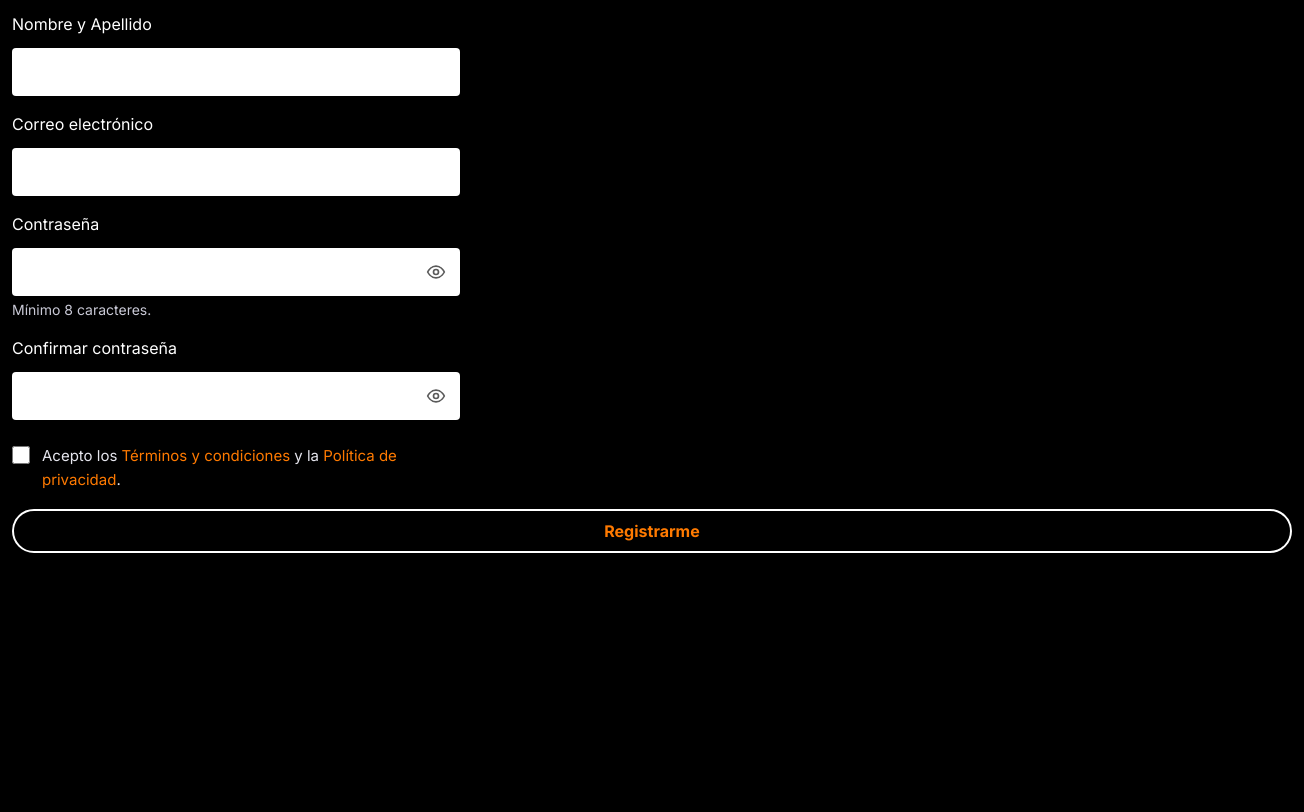
Test: RegisterForm › clears the EMAIL_TAKEN error once the email is edited
The image size is (1304, 812).
Type "Ana Pérez" into the field labelled "Nombre y Apellido" at (236, 72), box x1=12 y1=48 x2=460 y2=96
Type "ana@example.com" into the field labelled "Correo electrónico" at (236, 172), box x1=12 y1=148 x2=460 y2=196
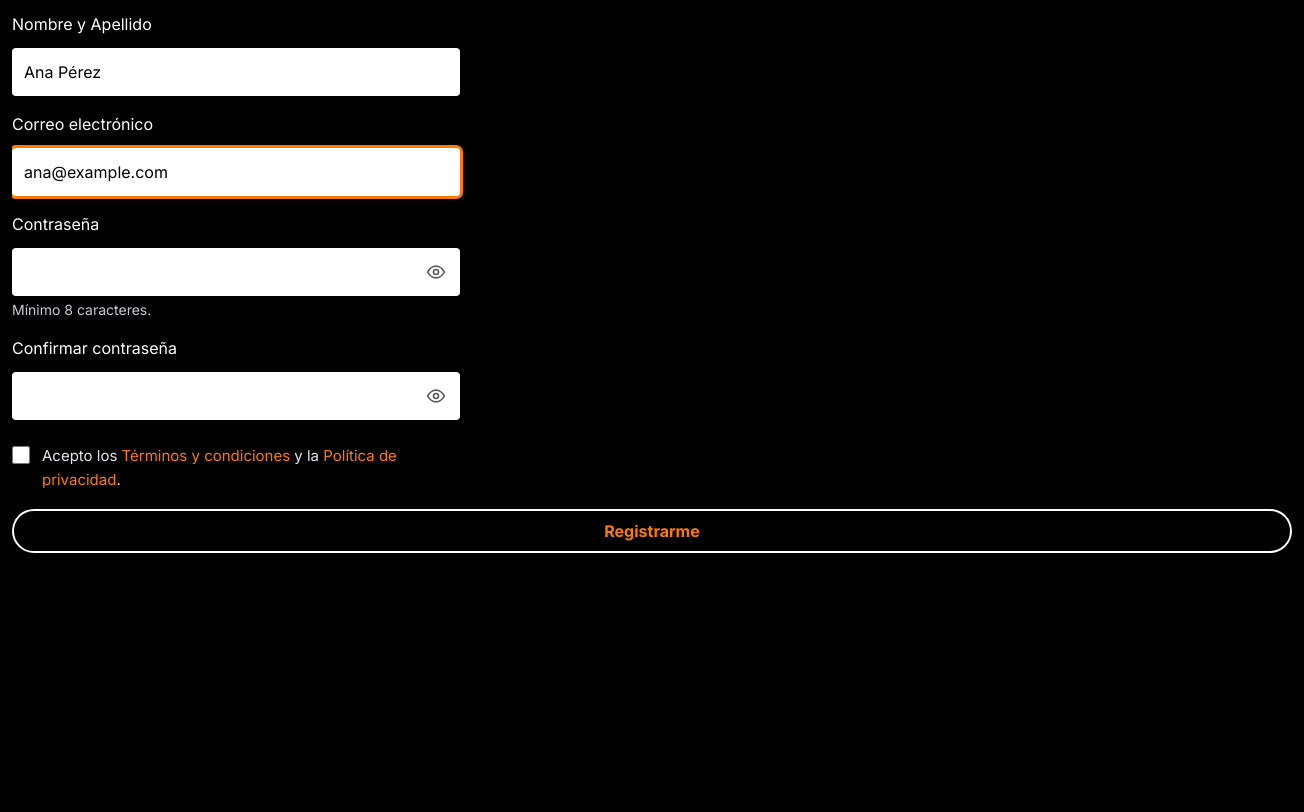
Type "unaclavesegura" into the password field labelled "Contraseña" at (236, 272), box x1=12 y1=248 x2=460 y2=296
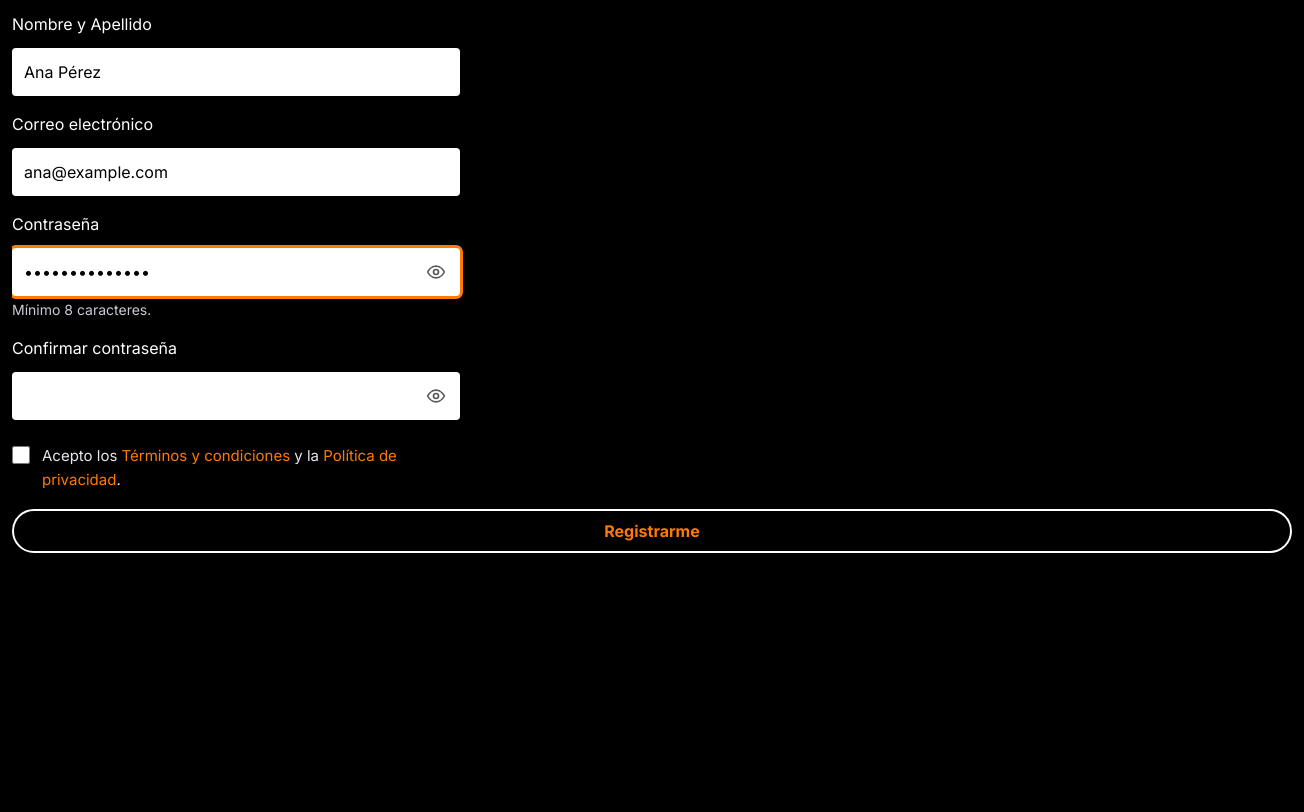
Type "unaclavesegura" into the password field labelled "Confirmar contraseña" at (236, 396), box x1=12 y1=372 x2=460 y2=420
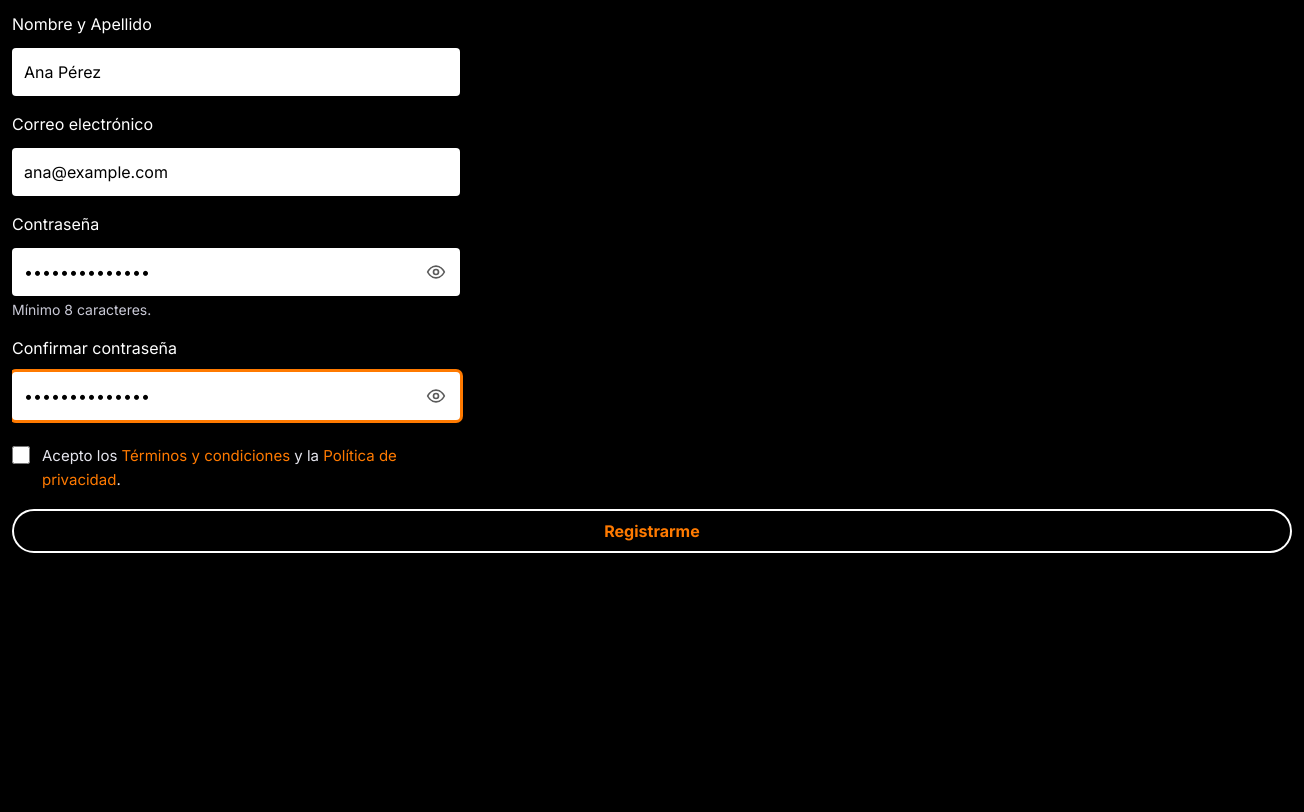
Click the checkbox at (21, 455), box x1=12 y1=446 x2=30 y2=464
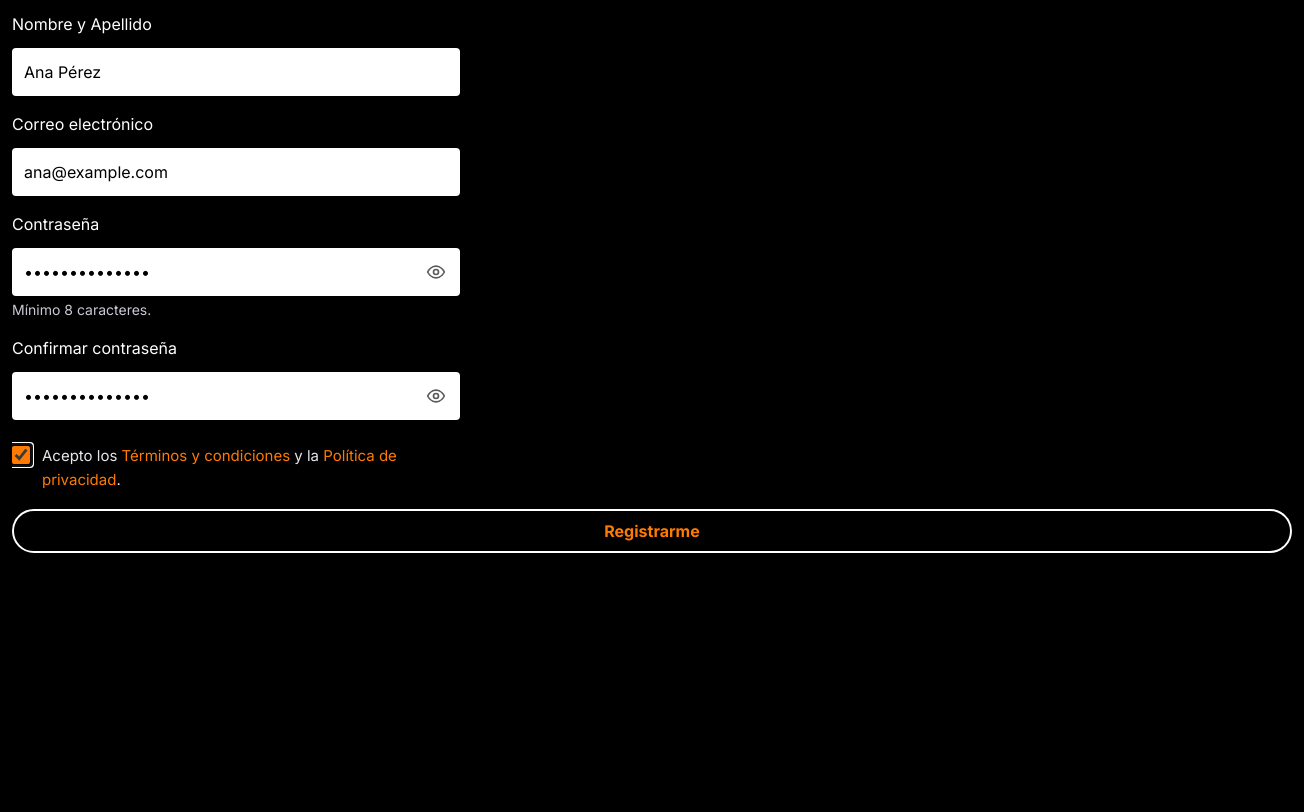
Click the button "Registrarme" at (652, 531), box x1=12 y1=509 x2=1292 y2=553
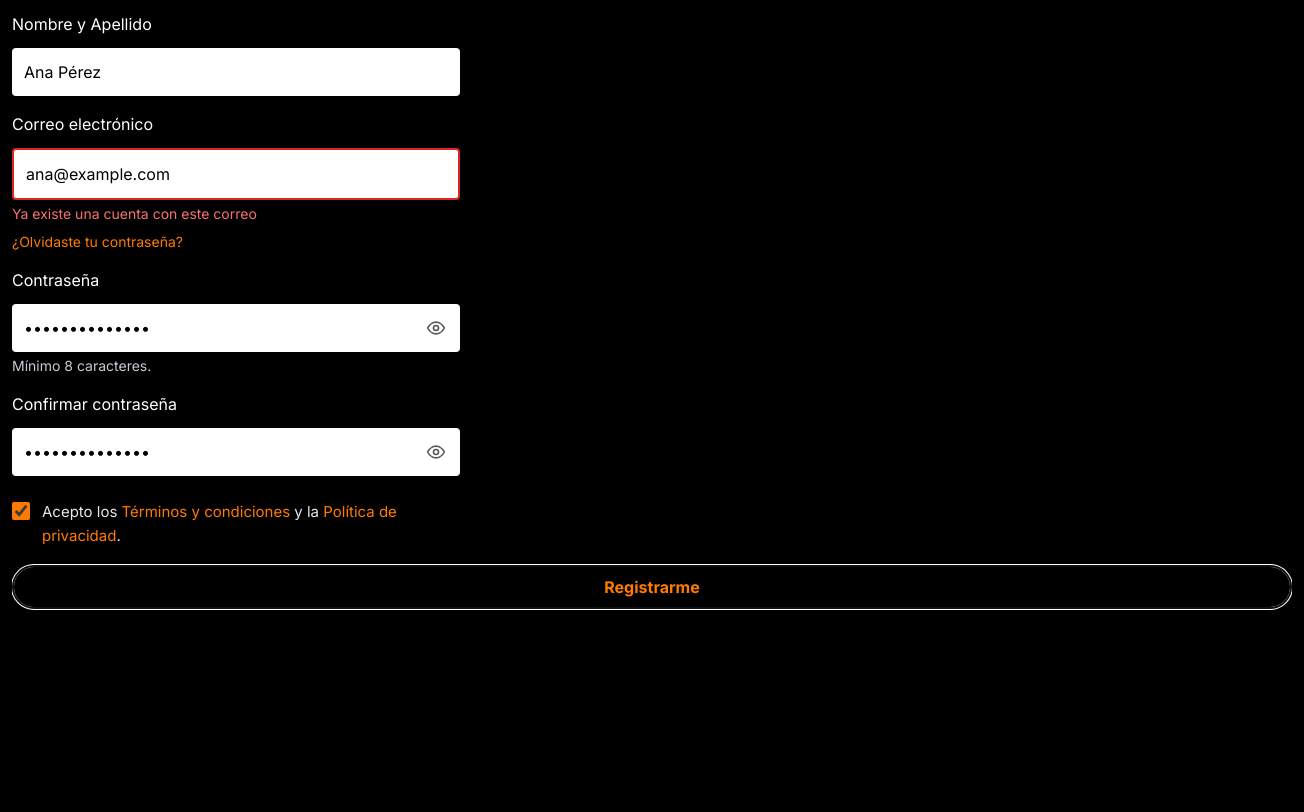
Check: the text "Ya existe una cuenta con este correo" is shown, box x1=12 y1=205 x2=257 y2=222
Type "x" into the field labelled "Correo electrónico" at (236, 174), box x1=12 y1=148 x2=460 y2=200
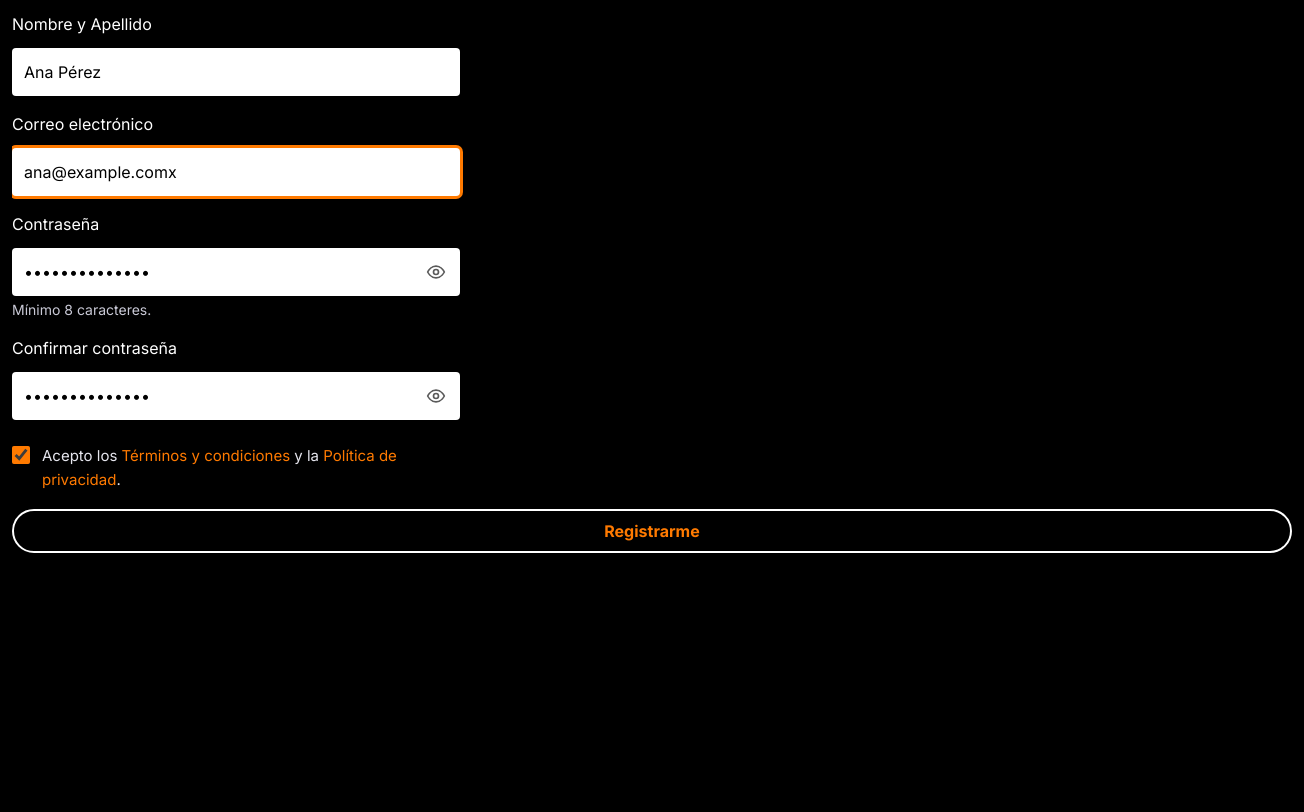
Check: the text "Ya existe una cuenta con este correo" is gone
Check: the link "¿Olvidaste tu contraseña?" is gone
